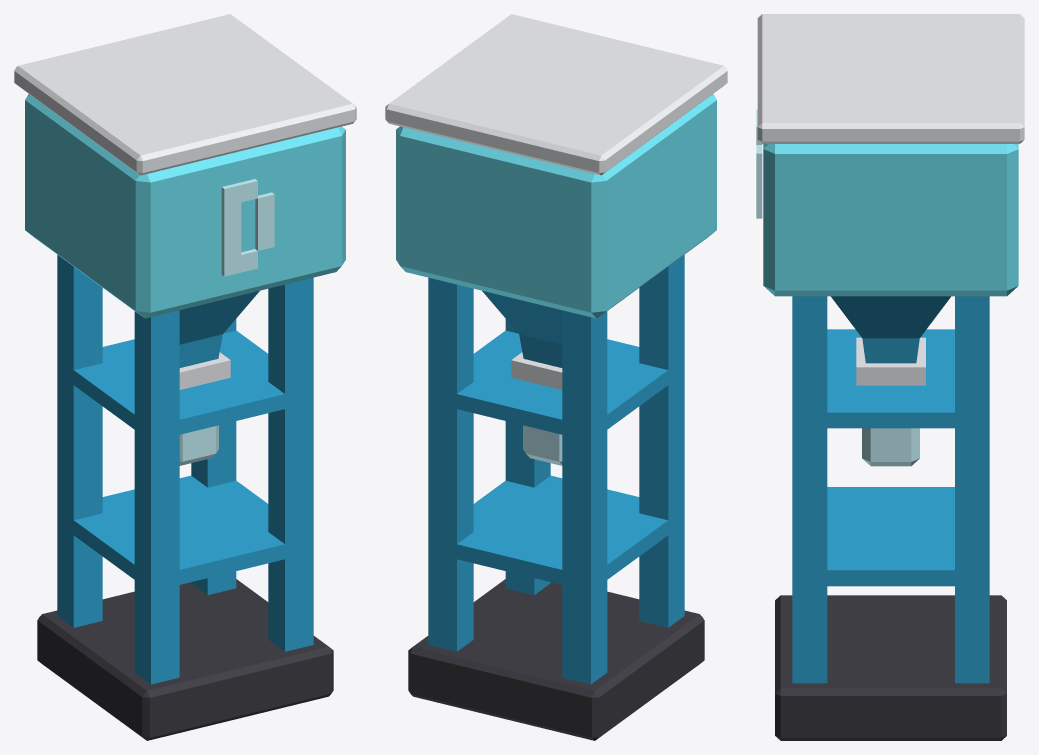
Rendered from DiamondDropper.fbx.
The picture shows the model from 3 angles, left to right: view 1: azimuth 30°, elevation 25°; view 2: azimuth 150°, elevation 25°; view 3: azimuth 270°, elevation 25°; orthographic projection. The views are drawn at different scales.
Parts seen in each view (by area): view 1: DiamondDropper, DiamondDropper_Ore; view 2: DiamondDropper, DiamondDropper_Ore; view 3: DiamondDropper, DiamondDropper_Ore.
Boxes of the visible parts, left/top/right/bottom form: DiamondDropper: left=14, top=14, right=356, bottom=740; DiamondDropper_Ore: left=179, top=425, right=218, bottom=465; DiamondDropper: left=385, top=14, right=727, bottom=740; DiamondDropper_Ore: left=523, top=425, right=562, bottom=465; DiamondDropper: left=756, top=14, right=1024, bottom=740; DiamondDropper_Ore: left=862, top=428, right=919, bottom=466.
Size of the model in its own units: 4.6 by 11.9 by 4.62.
1 material, 1 textured.
